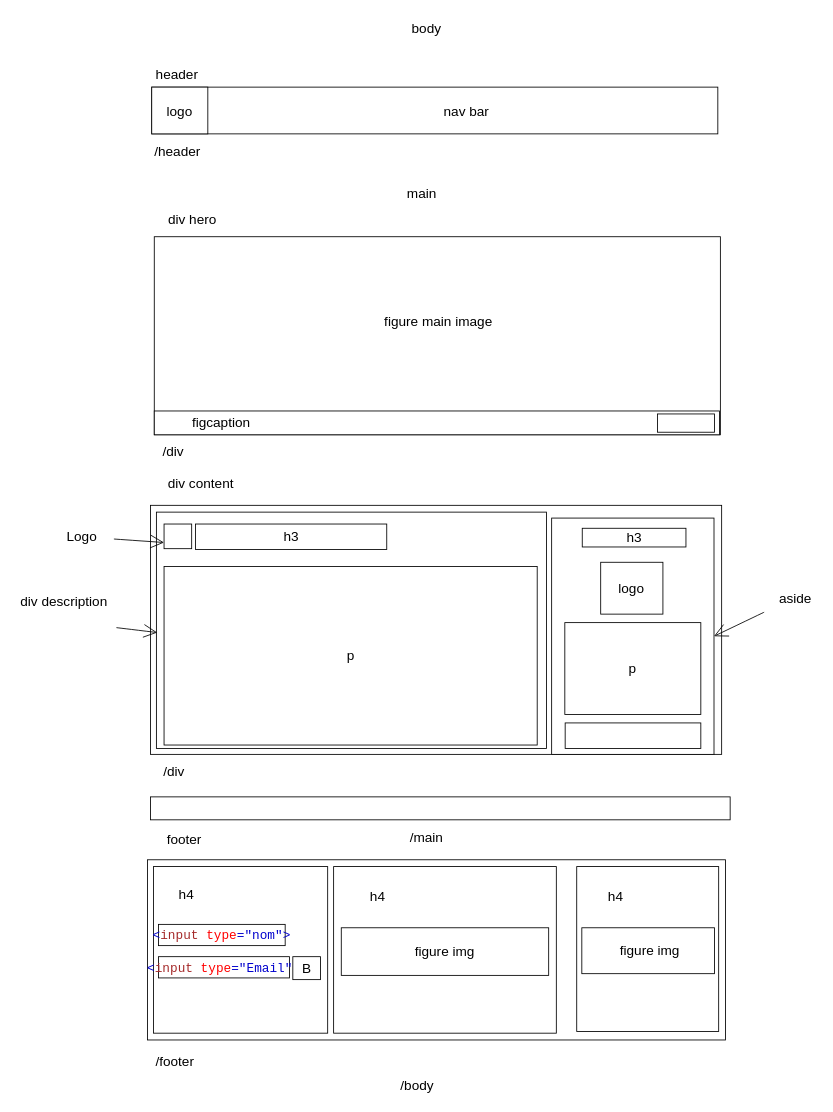
This 833x1112 diagram has some shape labels left out. The centre of each missing label's shape, as x and y in pixels:
button: point (685, 422)
hr: point (440, 808)
social icons: point (632, 735)
